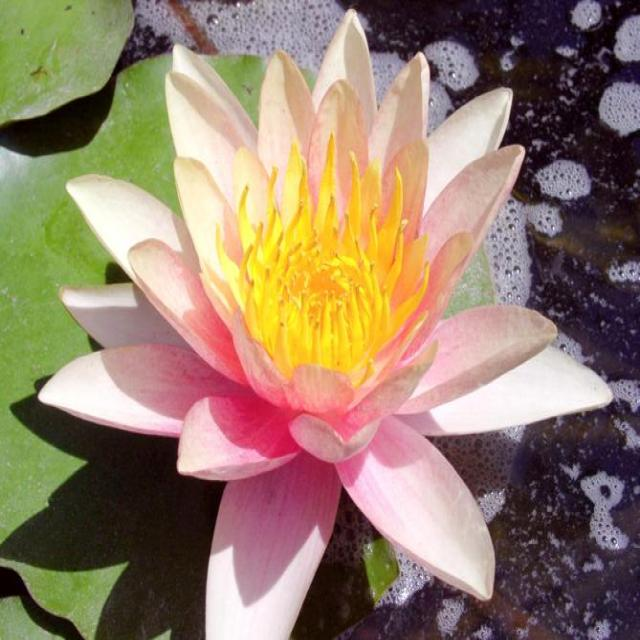water-lily: (9, 0, 634, 640)
